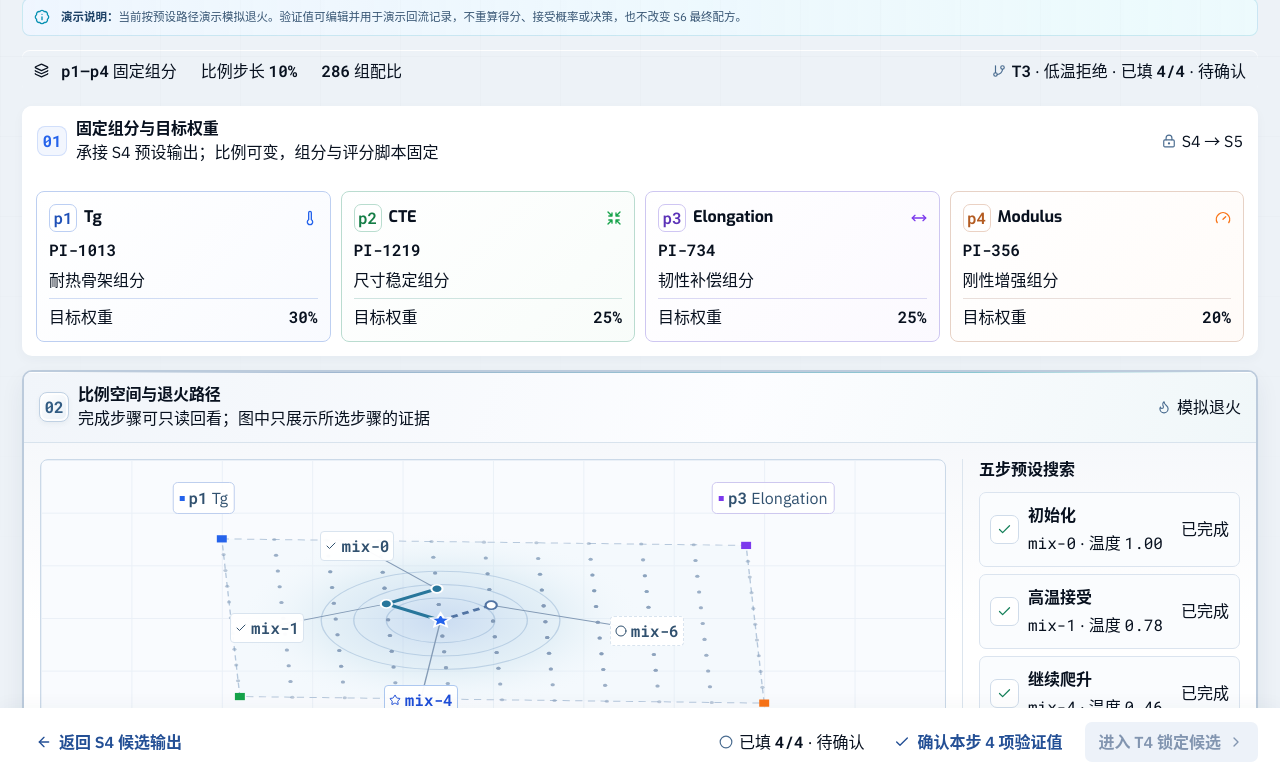
Test: S5 配比搜索工作台 › 确认拒绝后保留 mix-4；温度、分差、概率均明确为预设
Click the button "确认本步 4 项验证值". click: (978, 742)
box: [880,722,1077,762]
(page scrolled)
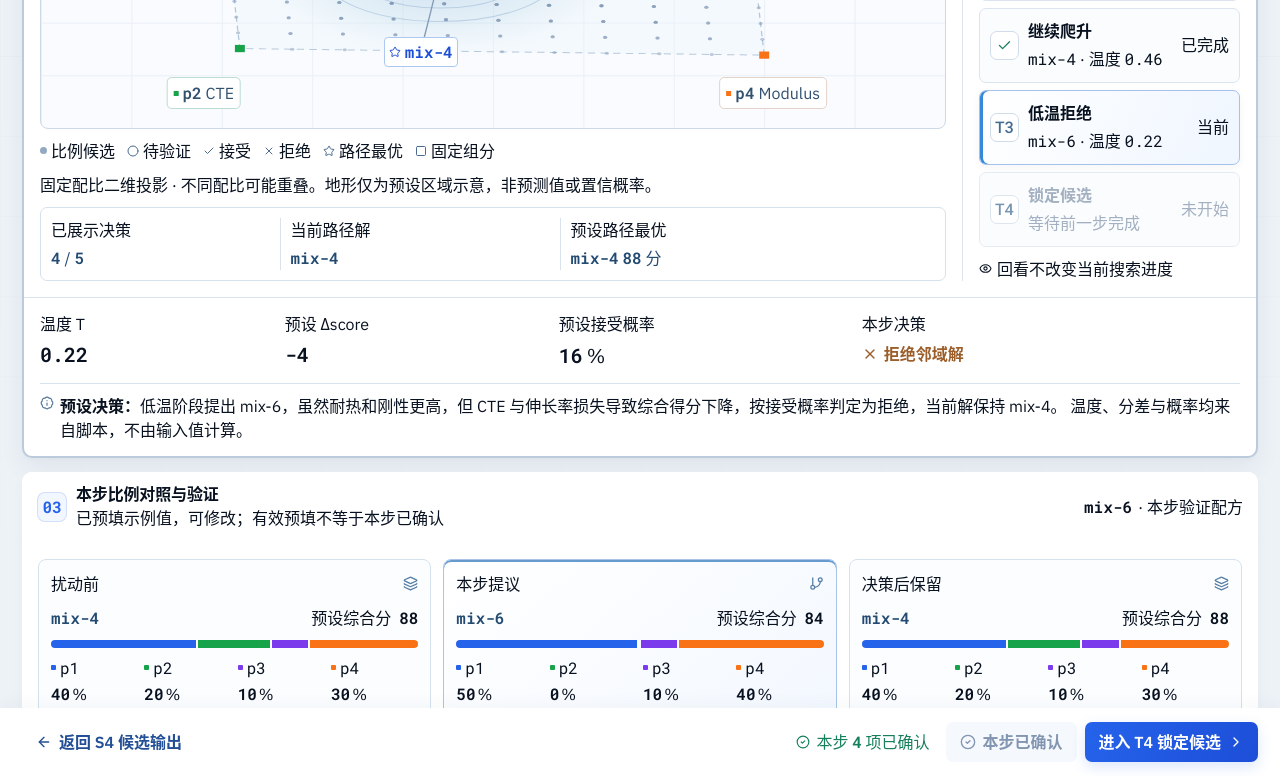
Expected: the element labelled "决策后保留 mix-4" is shown, [849,558,1242,718]
Expected: the element named "T3 预设决策" shows "拒绝邻域解", [884,344,964,364]
